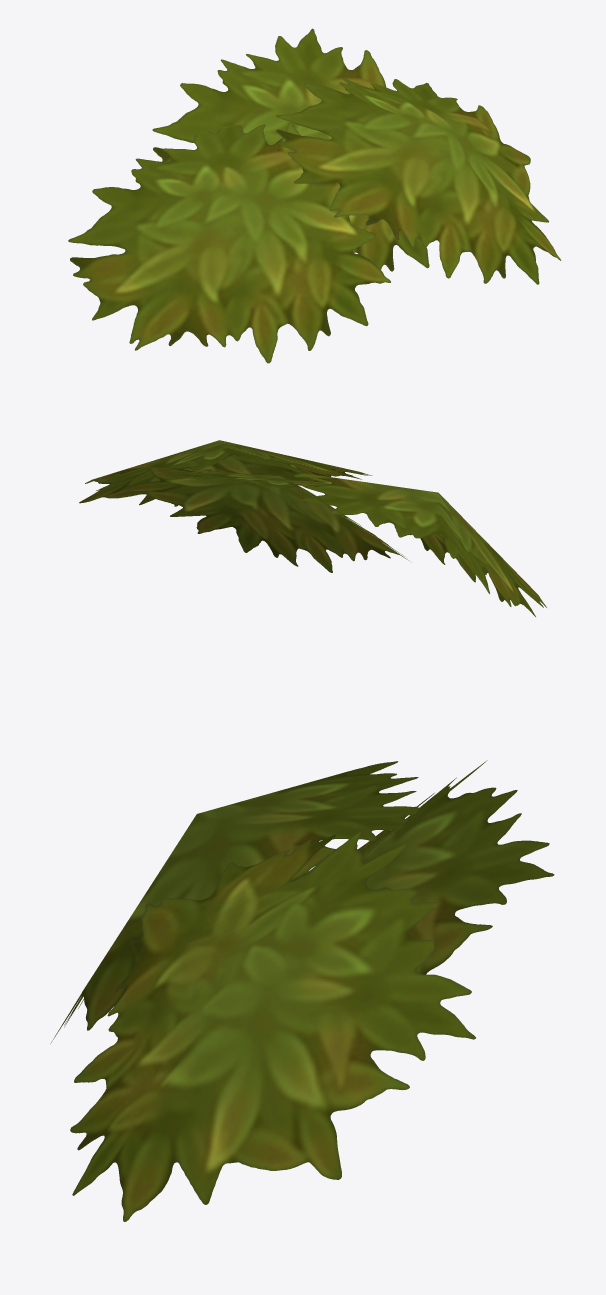
The model's file is grass_02.FBX.
The picture shows the model from 3 angles, top to bottom: view 1: azimuth 30°, elevation 25°; view 2: azimuth 150°, elevation 25°; view 3: azimuth 270°, elevation 25°; orthographic projection. The views are drawn at different scales.
Visible parts, largest first — view 1: Plane010; view 2: Plane010; view 3: Plane010.
Boxes of the visible parts, x1=… form: Plane010: x1=68, y1=28, x2=561, y2=363; Plane010: x1=79, y1=440, x2=546, y2=616; Plane010: x1=50, y1=760, x2=554, y2=1221.
Size of the model in its own units: 501 by 215 by 305.
1 material, 1 textured.
